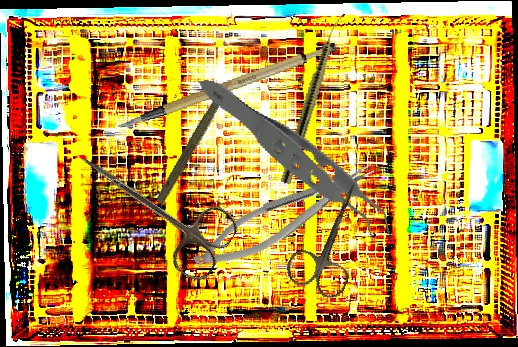Handpiece: (153, 71, 242, 208), (279, 12, 345, 186)
Iris Scissors: (59, 130, 244, 286), (281, 170, 385, 303)
Needle Holder: (185, 154, 385, 280)
Scalpel Handle: (106, 38, 345, 131)
Tissue Forceps: (198, 37, 398, 294)
